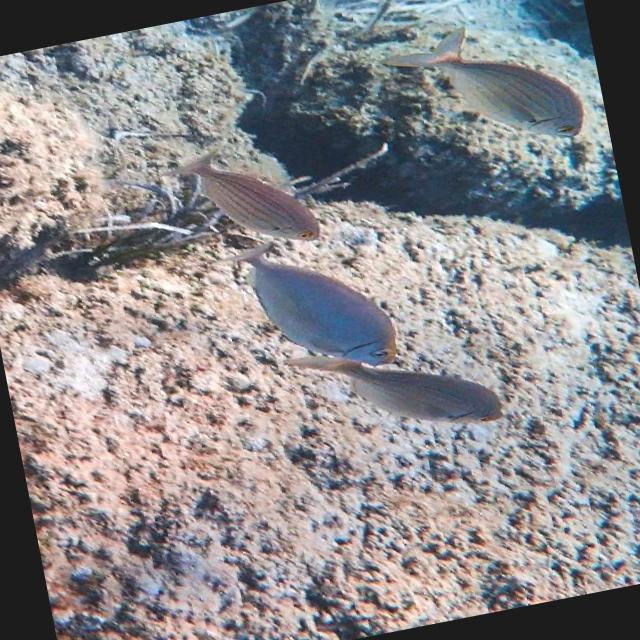Sokar Baligi: (362, 0, 604, 176), (148, 120, 350, 276)
